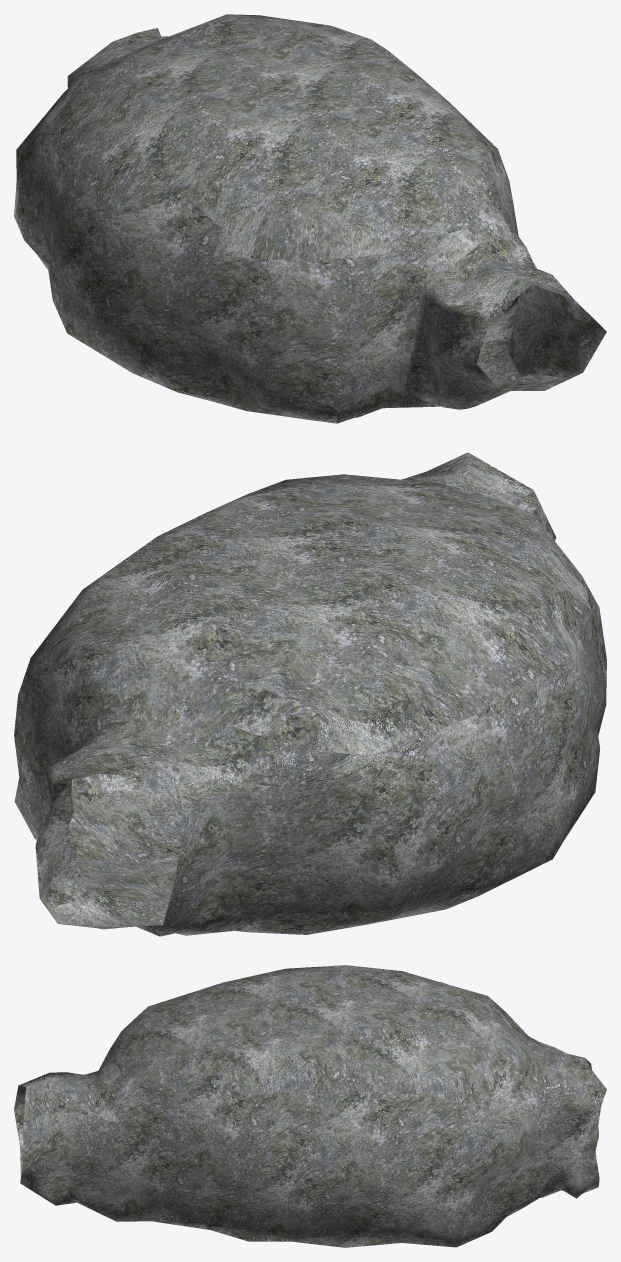
File: cave-chamber.glb
3 views of the same model, one above another, from view 1: azimuth 30°, elevation 25°; view 2: azimuth 150°, elevation 25°; view 3: azimuth 270°, elevation 25° (orthographic). The views are drawn at different scales.
Visible parts, largest first — view 1: CC0_CAVE_CHAMBER; view 2: CC0_CAVE_CHAMBER; view 3: CC0_CAVE_CHAMBER.
Boxes of the visible parts, box(x1,y1,x2,y2) form: CC0_CAVE_CHAMBER: box(14, 14, 606, 423); CC0_CAVE_CHAMBER: box(14, 452, 606, 936); CC0_CAVE_CHAMBER: box(14, 965, 606, 1247).
Size of the model in its own units: 10.64 by 6.29 by 17.
1 material, 1 textured.
